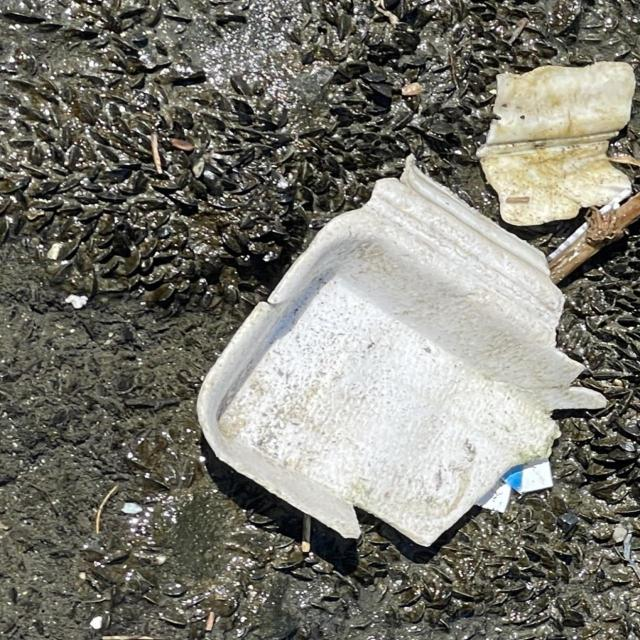styrofoam_waste: (196, 153, 575, 549)
